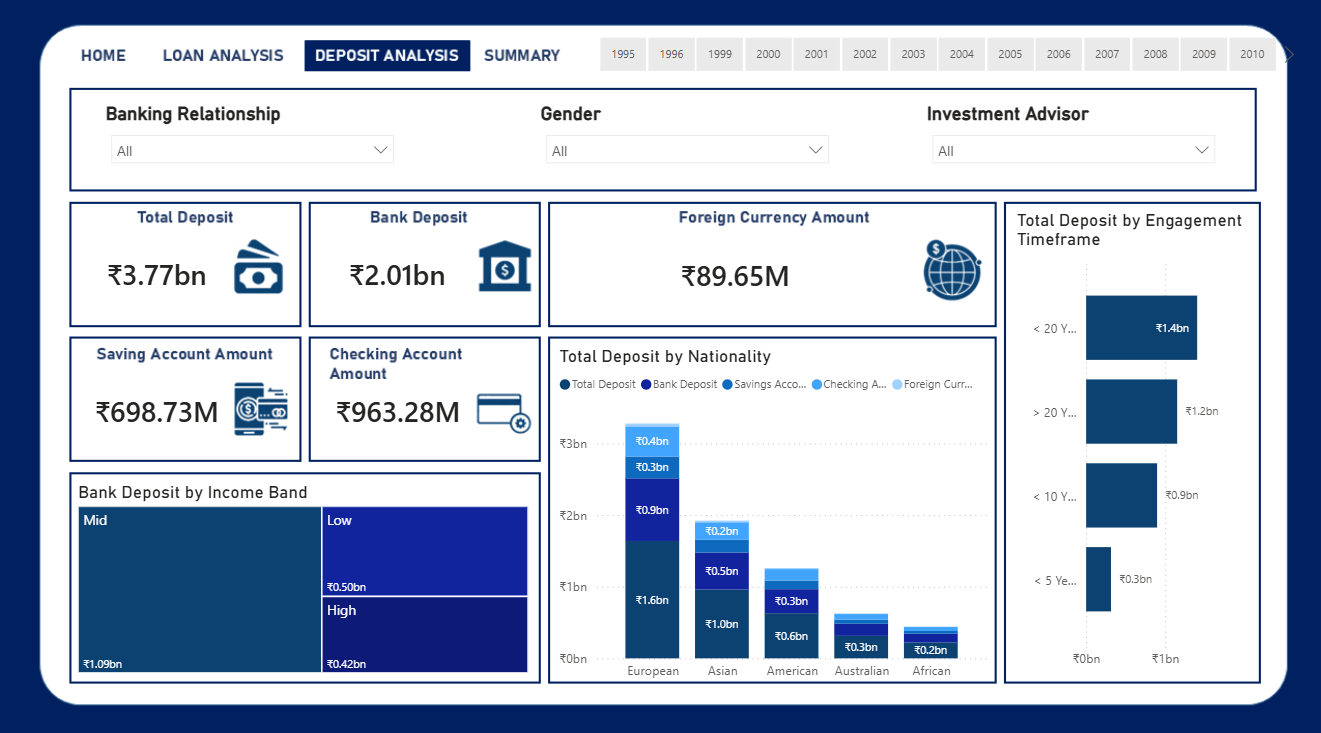

The page's visual inventory and layout, read from the dashboard file:
{"tool":"powerbi","page":{"name":"Deposit Analysis","canvas":[1280,720],"ordinal":2},"visuals":[{"type":"card","fields":{"Values":["DAX Measures.Total Deposit"]},"box":[72.7,226.3,161.8,90.3],"z":0},{"type":"card","fields":{"Values":["DAX Measures.Bank Deposit"]},"box":[299,226.3,172.4,89.1],"z":1000},{"type":"card","fields":{"Values":["DAX Measures.Savings Account"]},"box":[72.7,360,161.8,89.1],"z":2000},{"type":"card","fields":{"Values":["DAX Measures.Checking Accounts"]},"box":[300.2,360,171.2,89.1],"z":3000},{"type":"slicer","title":"Banking Relationship","fields":{"Values":["Banking Relationship.Banking Relationship"]},"box":[98.5,105.2,292.9,75.7],"z":4000},{"type":"slicer","title":"Gender","fields":{"Values":["Gender.Gender"]},"box":[518.9,105.2,292.9,75.7],"z":5000},{"type":"slicer","title":"Investment Advisor","fields":{"Values":["Investment Advisor.Investment Advisor"]},"box":[891.3,105.2,292.9,75.7],"z":6000},{"type":"card","fields":{"Values":["DAX Measures.Foreign Currency Account"]},"box":[537.1,227.5,349.4,89.1],"z":7000},{"type":"treemap","fields":{"Group":["Clients - Banking.Income Band"],"Values":["DAX Measures.Bank Deposit"]},"box":[72.7,470.2,444.4,190],"z":8000},{"type":"columnChart","title":"Total Deposit by Nationality","fields":{"Category":["Clients - Banking.Nationality"],"Y":["DAX Measures.Total Deposit","DAX Measures.Bank Deposit","DAX Measures.Savings Account","DAX Measures.Checking Accounts","DAX Measures.Foreign Currency Account"]},"box":[537.1,338.9,423.3,331.9],"z":9000},{"type":"clusteredBarChart","fields":{"Category":["Clients - Banking.Engagement Timeframe"],"Y":["DAX Measures.Total Deposit"]},"box":[978,207.6,234.5,452.6],"z":10000},{"type":"slicer","fields":{"Values":["Clients - Banking.Joined Bank.Variation.Date Hierarchy.Year"]},"box":[555.2,34.6,702.1,46.6],"z":11000},{"type":"actionButton","box":[72.8,44.2,58.5,31],"z":12000},{"type":"actionButton","box":[160,44.2,119.4,31],"z":13000},{"type":"actionButton","box":[471.6,44.2,83.6,31],"z":14000}]}

Visuals, with their boxes in screenshot pixels (x1, y1, x2, y2), scaled from the page's 1280x720 canvas onto the 1321x733 screenshot:
card - DAX Measures.Total Deposit: locate(75, 230, 242, 322)
card - DAX Measures.Bank Deposit: locate(309, 230, 486, 321)
card - DAX Measures.Savings Account: locate(75, 366, 242, 457)
card - DAX Measures.Checking Accounts: locate(310, 366, 486, 457)
"Banking Relationship" slicer: locate(102, 107, 404, 184)
"Gender" slicer: locate(536, 107, 838, 184)
"Investment Advisor" slicer: locate(920, 107, 1222, 184)
card - DAX Measures.Foreign Currency Account: locate(554, 232, 915, 322)
treemap - Clients - Banking.Income Band x DAX Measures.Bank Deposit: locate(75, 479, 534, 672)
"Total Deposit by Nationality" columnChart: locate(554, 345, 991, 683)
clusteredBarChart - Clients - Banking.Engagement Timeframe x DAX Measures.Total Deposit: locate(1009, 211, 1251, 672)
slicer - Clients - Banking.Joined Bank.Variation.Date Hierarchy.Year: locate(573, 35, 1298, 83)
actionButton: locate(75, 45, 136, 77)
actionButton: locate(165, 45, 288, 77)
actionButton: locate(487, 45, 573, 77)
